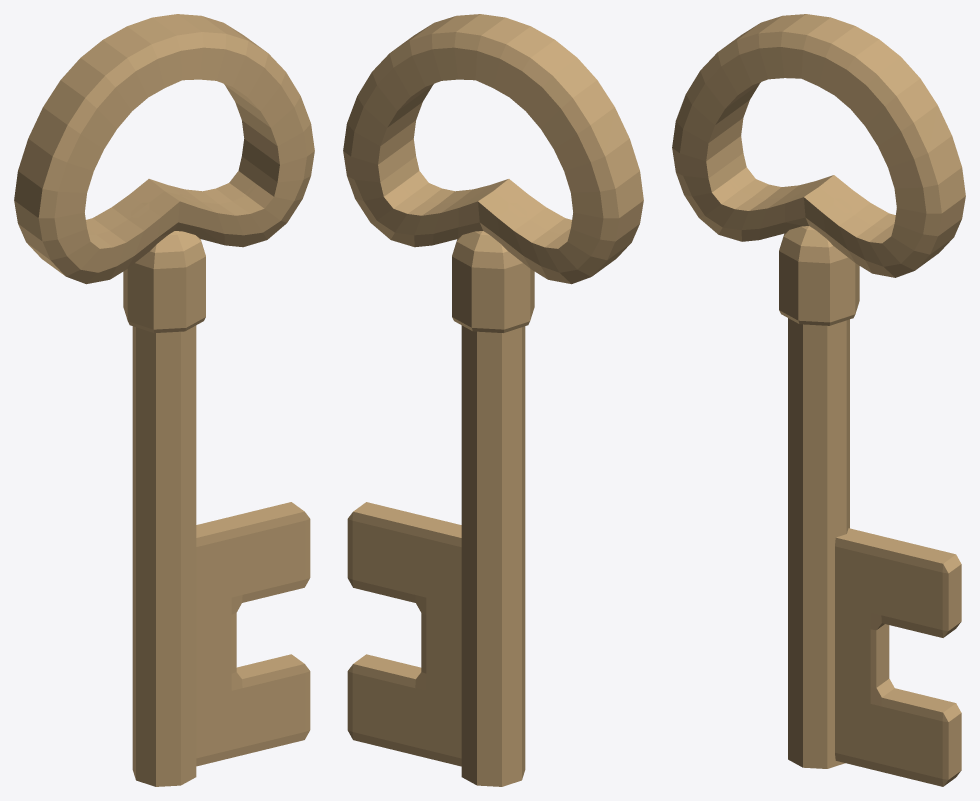
The model's file is key_09.fbx.
3 views of the same model, side by side, from view 1: azimuth 30°, elevation 25°; view 2: azimuth 150°, elevation 25°; view 3: azimuth 330°, elevation 25° (orthographic). The views are drawn at different scales.
Parts seen in each view (by area): view 1: key09head.002; view 2: key09head.002; view 3: key09head.002.
Part boxes in pixels (box(x1,y1,x2,y2)): key09head.002: box(14, 14, 314, 786); key09head.002: box(343, 14, 643, 786); key09head.002: box(672, 14, 965, 786).
Bounding box in the file's own units: 27.92 × 71.84 × 7.46.
